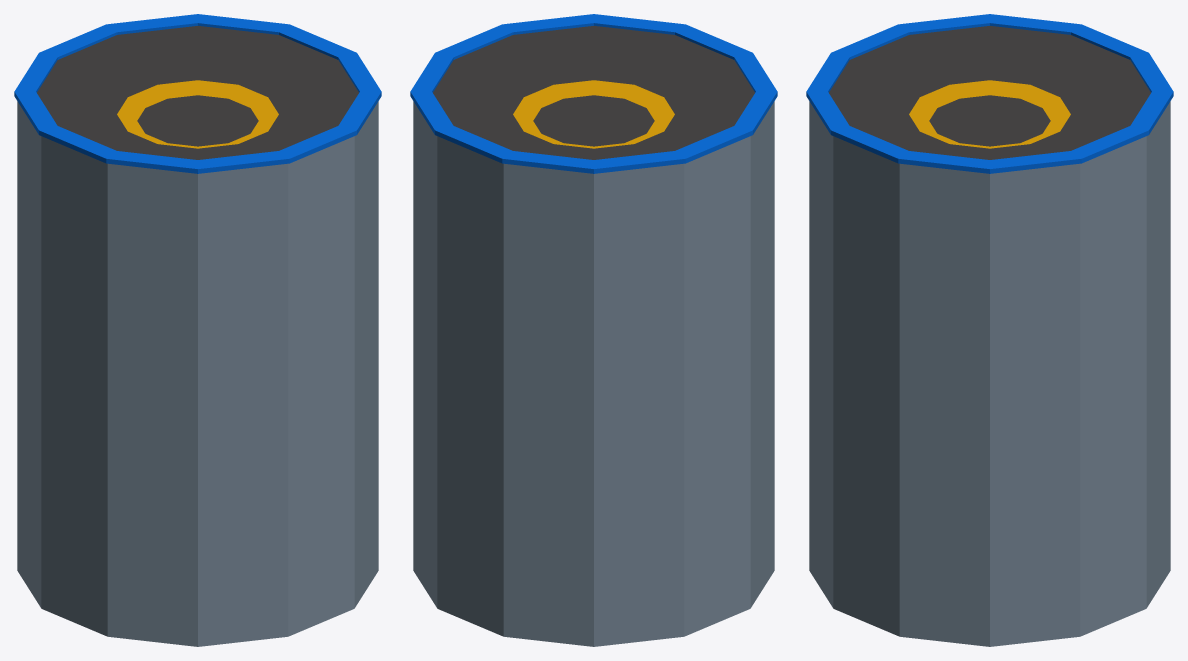
The model's file is diving_trampoline_02(jump_01)_blend.fbx.
3 renders of one model, left to right at view 1: azimuth 30°, elevation 25°; view 2: azimuth 150°, elevation 25°; view 3: azimuth 270°, elevation 25°, orthographic.
Visible parts, largest first — view 1: obj_trampoline3, obj_trampoline1, obj_trampoline2; view 2: obj_trampoline3, obj_trampoline1, obj_trampoline2; view 3: obj_trampoline3, obj_trampoline1, obj_trampoline2.
Part boxes in pixels (x1,y1,x2,y2): obj_trampoline3: (17, 101, 378, 646); obj_trampoline1: (37, 26, 358, 159); obj_trampoline2: (14, 14, 381, 173); obj_trampoline3: (413, 101, 774, 646); obj_trampoline1: (433, 26, 754, 159); obj_trampoline2: (410, 14, 777, 173); obj_trampoline3: (809, 101, 1170, 646); obj_trampoline1: (829, 26, 1150, 159); obj_trampoline2: (806, 14, 1173, 173).
Size of the model in its own units: 351 by 505 by 351.
